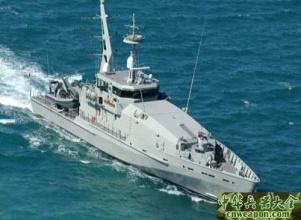warship: (30, 46, 259, 198)
